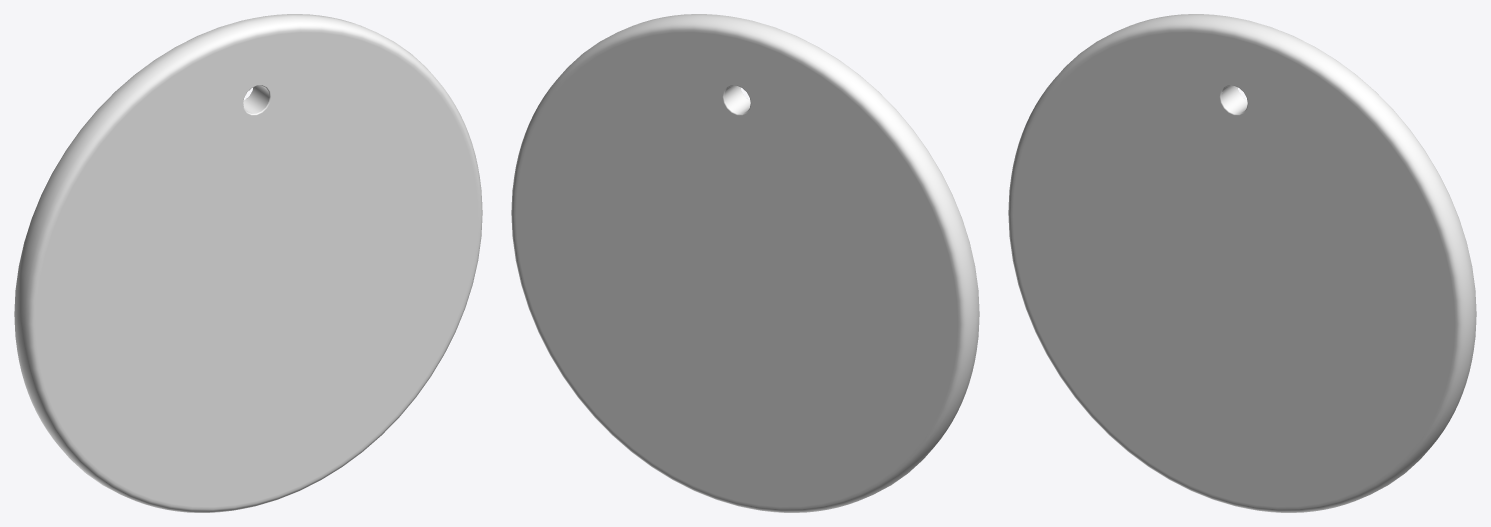
The model's file is tree.gltf.
3 views of the same model, side by side, from view 1: azimuth 30°, elevation 25°; view 2: azimuth 150°, elevation 25°; view 3: azimuth 330°, elevation 25° (orthographic).
Parts seen in each view (by area): view 1: changeMap, round (×2); view 2: changeMap02, round (×2); view 3: changeMap, round (×2).
Boxes of the visible parts, bbox=[...] form: changeMap: bbox=[25, 21, 482, 512]; round (×2): bbox=[14, 14, 433, 496]; changeMap02: bbox=[511, 21, 968, 512]; round (×2): bbox=[560, 14, 979, 496]; changeMap: bbox=[1008, 21, 1465, 512]; round (×2): bbox=[1061, 14, 1476, 496].
Bounding box in the file's own units: 7.81 × 7.81 × 0.5.
Materials: 4 (2 with a texture image).
